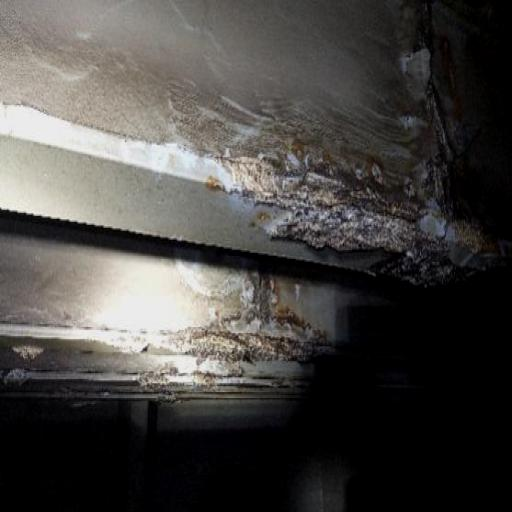Detect-rust-on-metal-surfaces: (172, 6, 506, 306), (106, 261, 364, 425)
